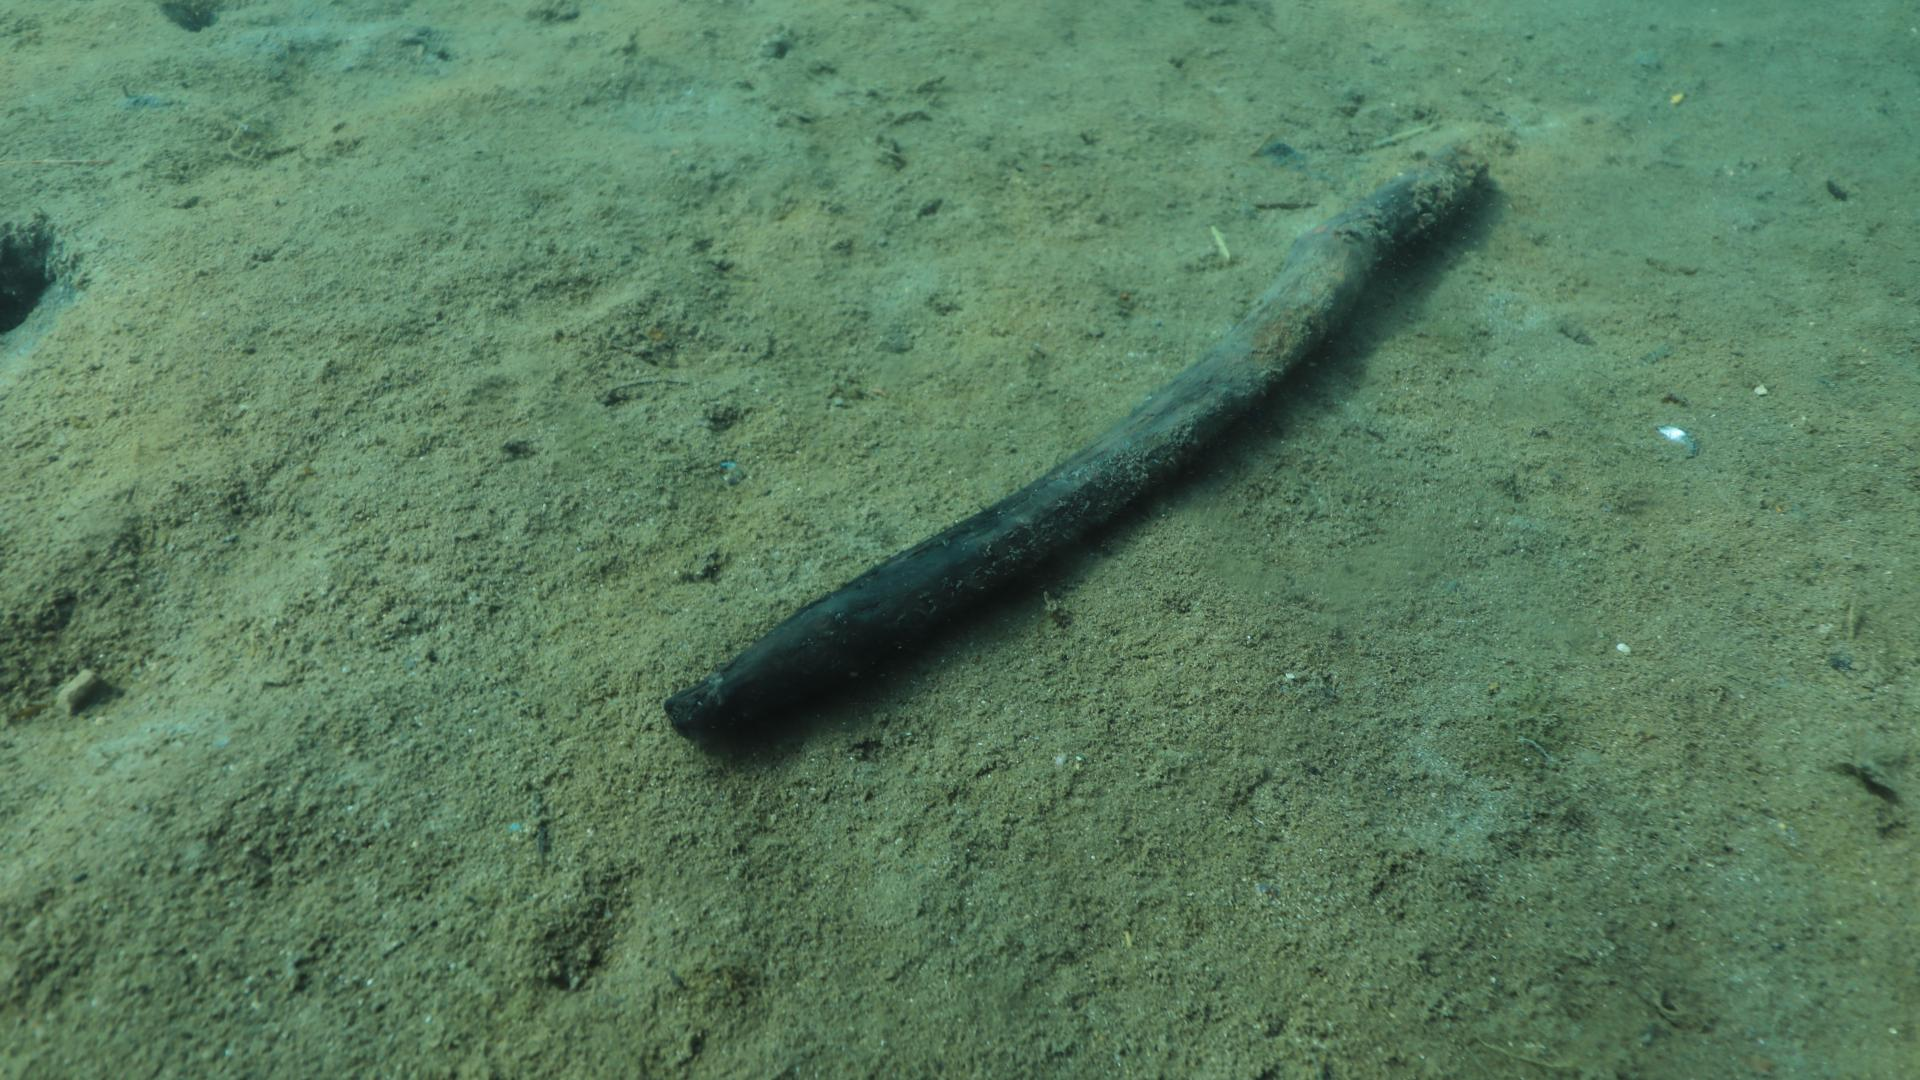wood: (659, 136, 1487, 744)
